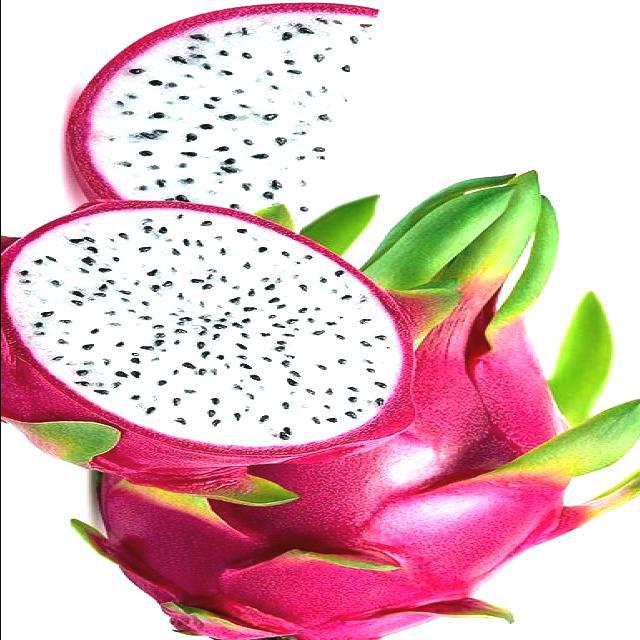trang: (80, 163, 640, 639), (1, 185, 458, 498), (72, 0, 380, 210)
